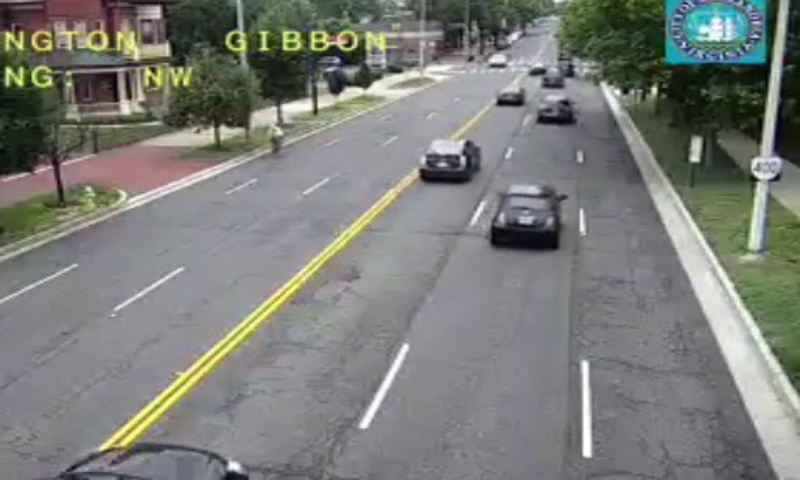car: (490, 183, 558, 237), (420, 139, 479, 175), (536, 94, 572, 120), (494, 86, 524, 105)
